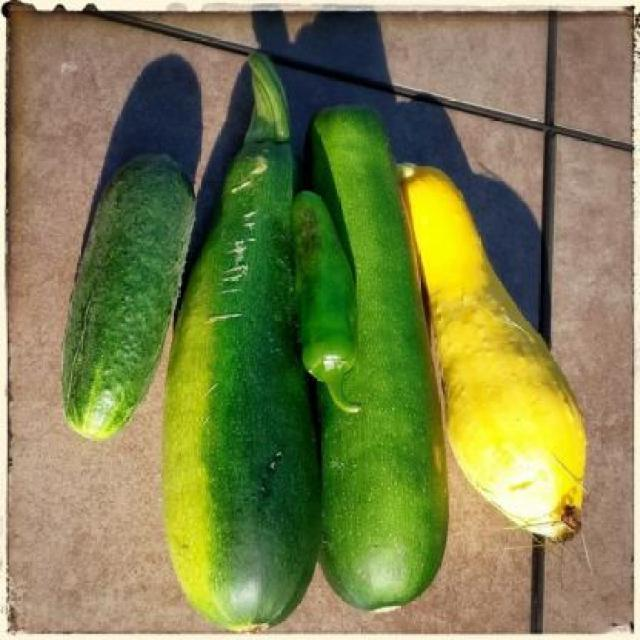Cucumber: (170, 51, 318, 634), (304, 96, 446, 615), (398, 163, 586, 542), (57, 150, 197, 439)
